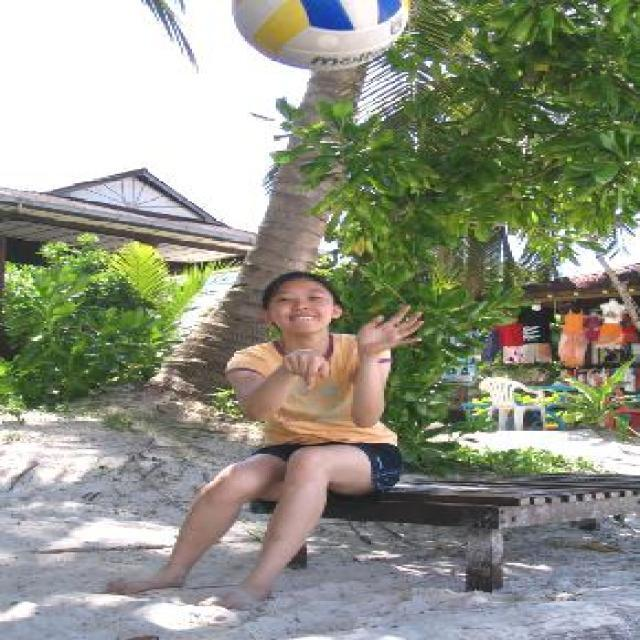volleyball: (233, 0, 410, 72)
